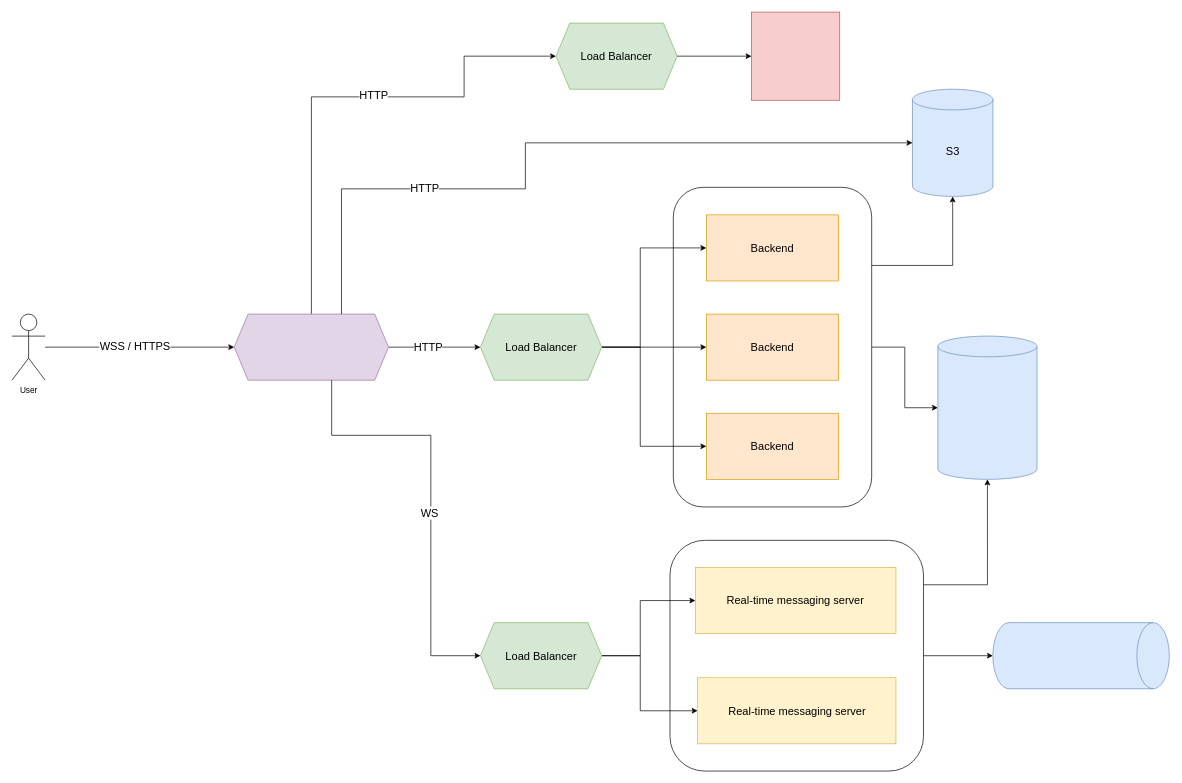
Image size: 1182x783. Some labels were removed from this diagram. The box of each missing label's shape, as (x1, y1, x2, y2) in pixels:
Database: (937, 335, 1037, 479)
Frontend: (751, 11, 840, 100)
Message Broker: (992, 622, 1169, 689)
Reverse Proxy Server: (234, 313, 389, 380)
